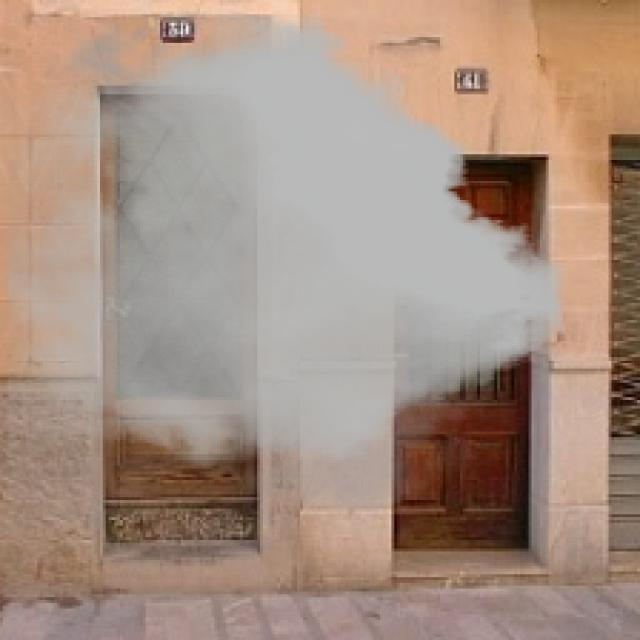Smoke: (8, 6, 566, 526)
